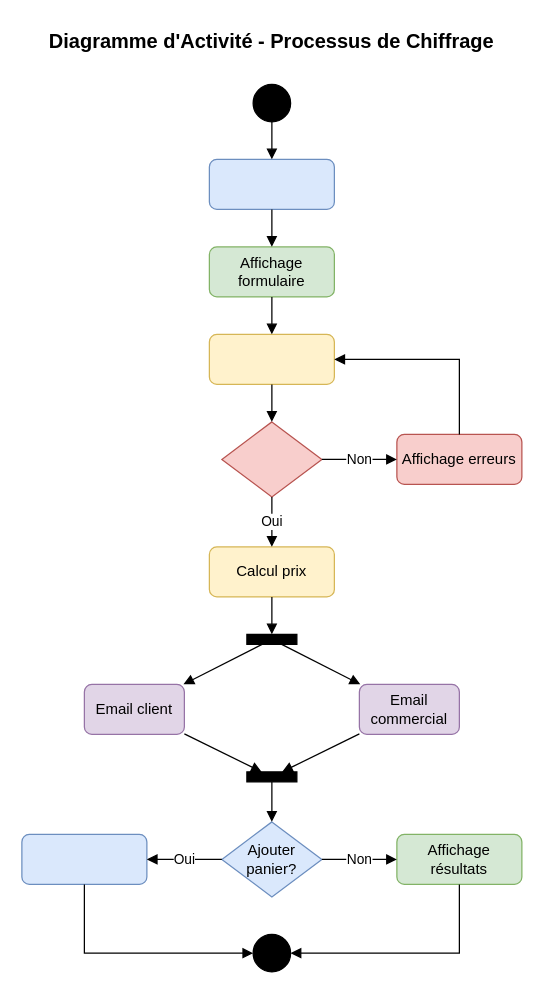
The diagram is 544 pixels wide and 994 high, and some of its shapes have lost their labels. The centre of each missing label's shape, as x and y in pixels:
"Accès page" belongs at (x=271, y=183).
"Création produit" belongs at (x=84, y=858).
"Données valides?" belongs at (x=271, y=459).
"Saisie données" belongs at (x=271, y=358).
